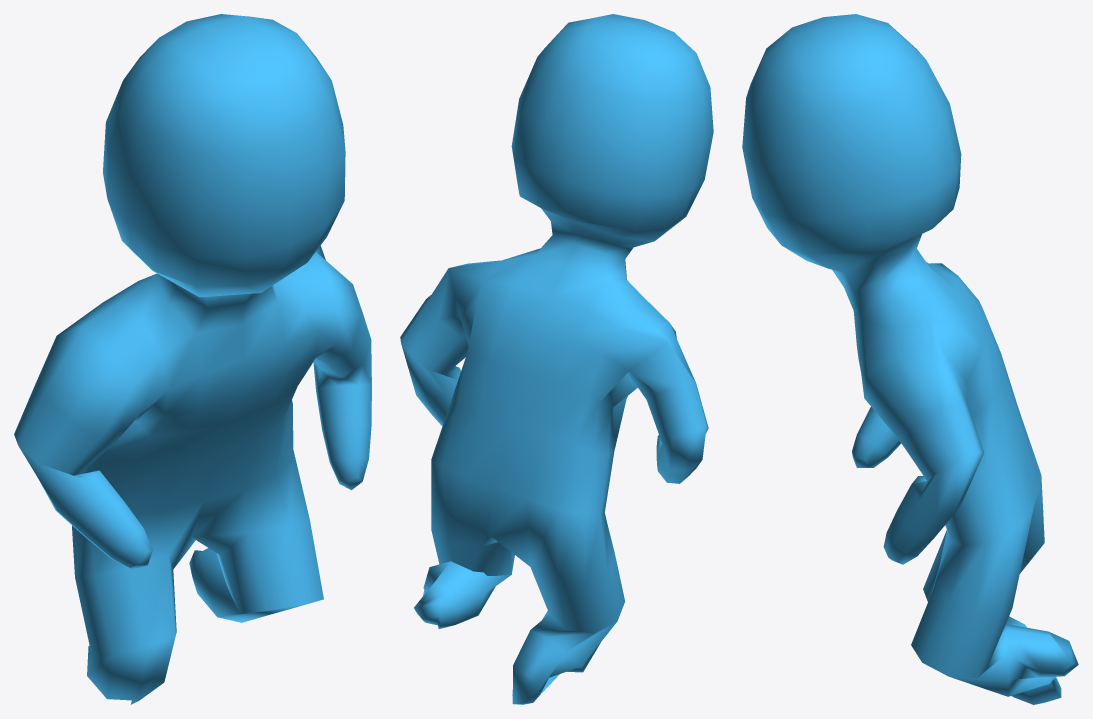
File: Enemy1.glb
3 views of the same model, side by side, from view 1: azimuth 30°, elevation 25°; view 2: azimuth 150°, elevation 25°; view 3: azimuth 270°, elevation 25° (orthographic). The views are drawn at different scales.
Visible parts, largest first — view 1: Cube; view 2: Cube; view 3: Cube.
Boxes of the visible parts, x1,y1,x2,y2 form: Cube: (14, 14, 371, 704); Cube: (400, 14, 713, 704); Cube: (742, 14, 1078, 704).
Size of what is drawn, in the model's own units: 0.2983 by 0.5929 by 0.2686.
